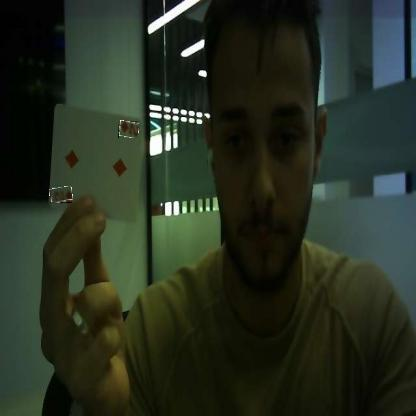2D: (118, 121, 139, 138), (50, 187, 72, 203)
